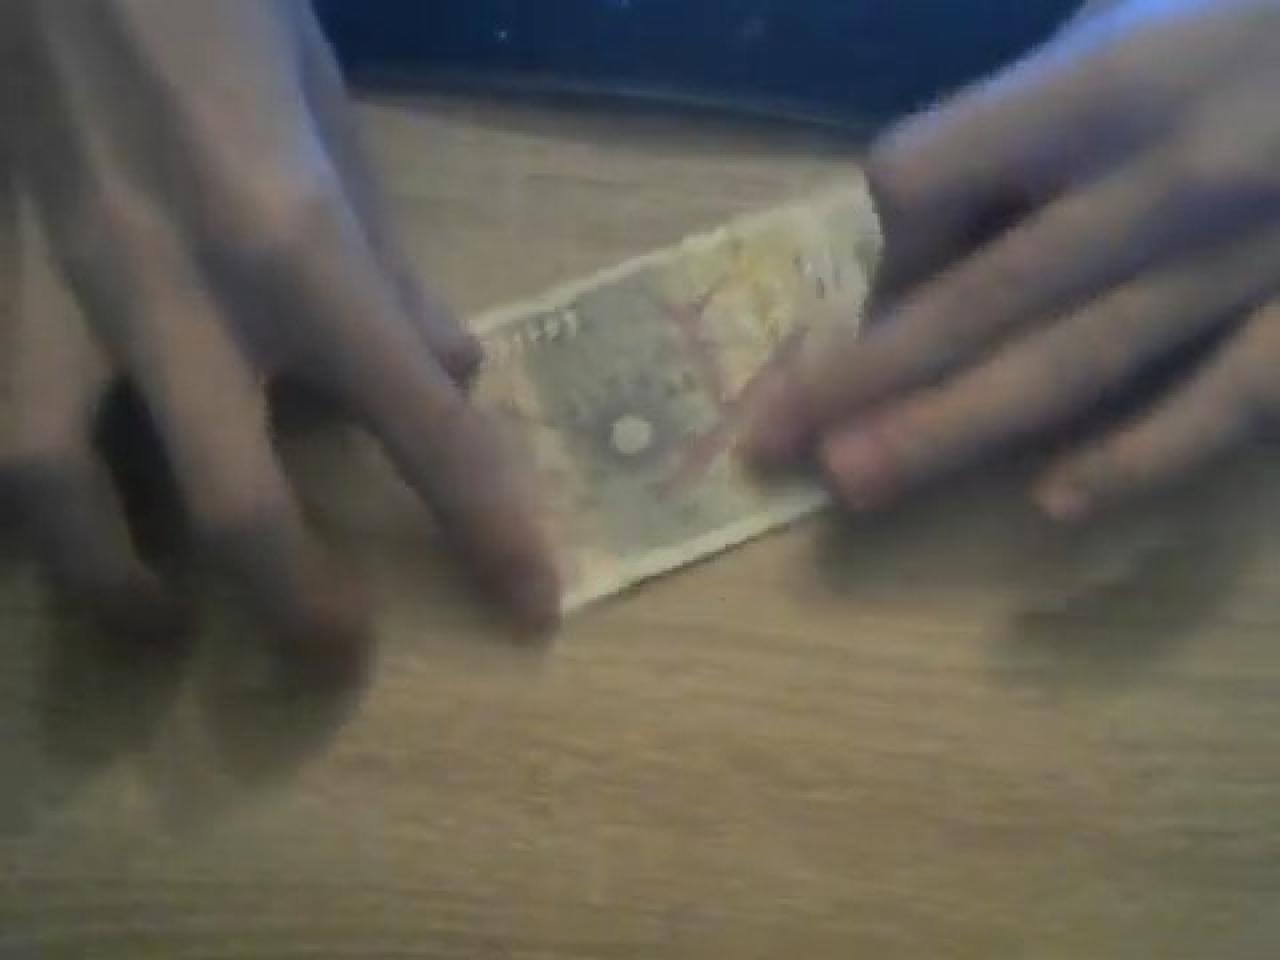10leva: (475, 176, 883, 616)
